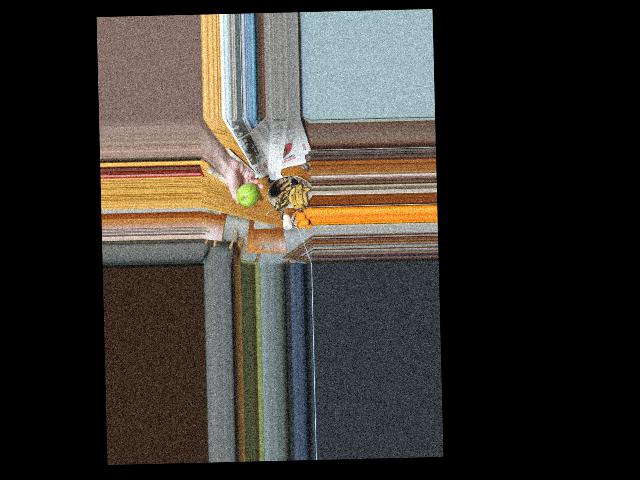apple: (235, 182, 260, 206)
